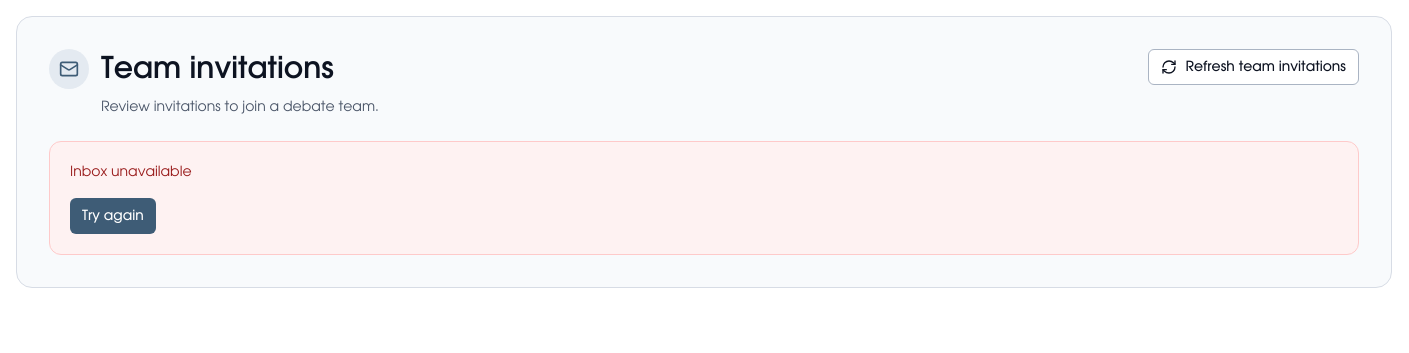
Scenario: ParticipantInvitationInbox › recovers from an inbox load failure
Expected: the text "Inbox unavailable" is shown, [70,165,192,179]
Click the button "Try again": point(113, 216) [70,198,156,234]
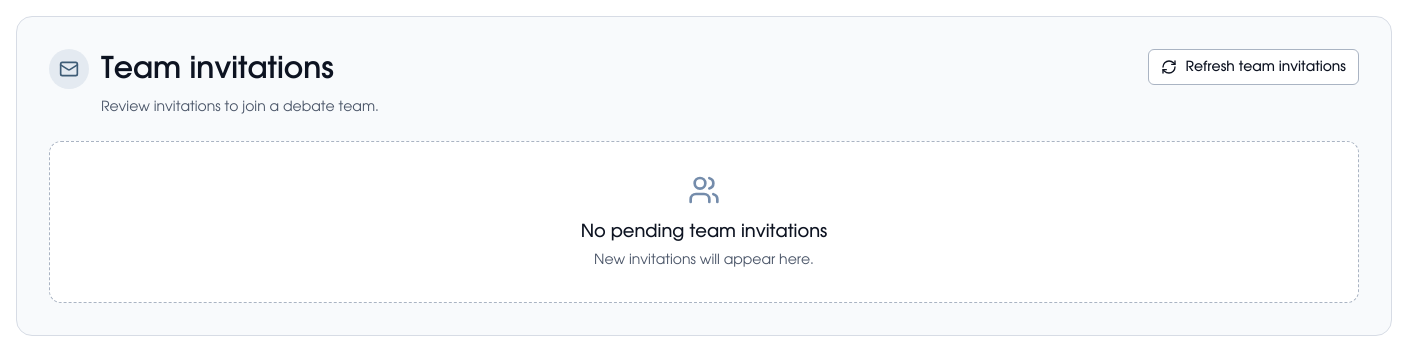
Result: the heading "No pending team invitations" is shown at [581,223,827,241]
